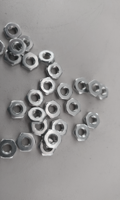nut: (8, 100, 28, 119), (3, 22, 23, 40), (17, 134, 36, 152), (21, 52, 39, 71), (0, 139, 17, 159), (64, 99, 82, 117), (73, 123, 90, 142), (28, 107, 46, 124), (28, 89, 45, 107), (45, 101, 62, 119), (51, 119, 68, 137), (56, 82, 73, 100), (40, 77, 57, 95), (8, 37, 26, 54), (46, 130, 62, 149), (32, 119, 49, 136), (39, 139, 56, 156), (46, 62, 63, 79), (19, 35, 36, 52), (84, 112, 100, 129), (74, 77, 89, 95), (88, 79, 103, 97), (5, 50, 21, 66), (40, 50, 56, 65), (99, 84, 109, 101), (0, 39, 6, 57)
